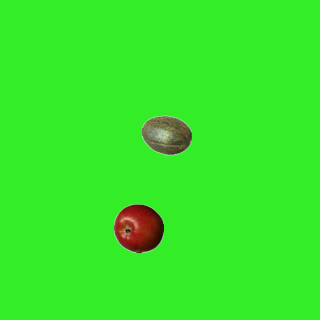Apple Braeburn: (113, 203, 163, 253)
Melon Piel de Sapo: (141, 110, 191, 160)
